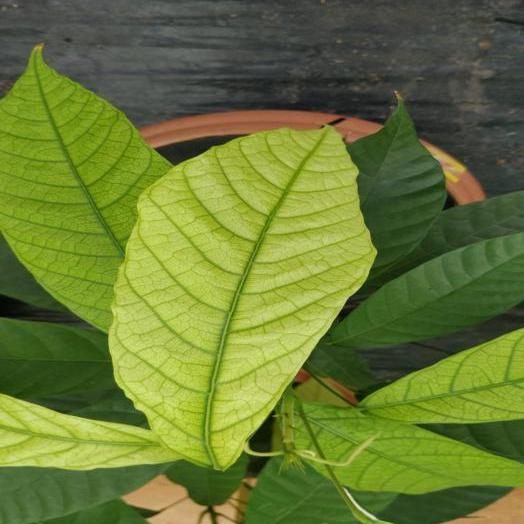Iron: (109, 128, 373, 467), (0, 45, 169, 330), (303, 401, 523, 494), (360, 328, 523, 423), (0, 394, 177, 469)
